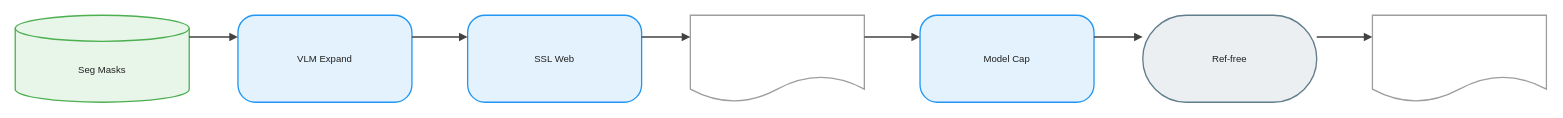
The diagram is 1563 pixels wide and 118 high, and some of its shapes have lost their labels. The centre of each missing label's shape, as x and y in pixels:
"Attr Set" goes at [777,58].
"Detail Score" goes at [1459,58].
